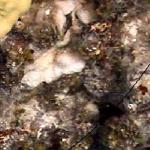alive: (9, 11, 145, 147)
